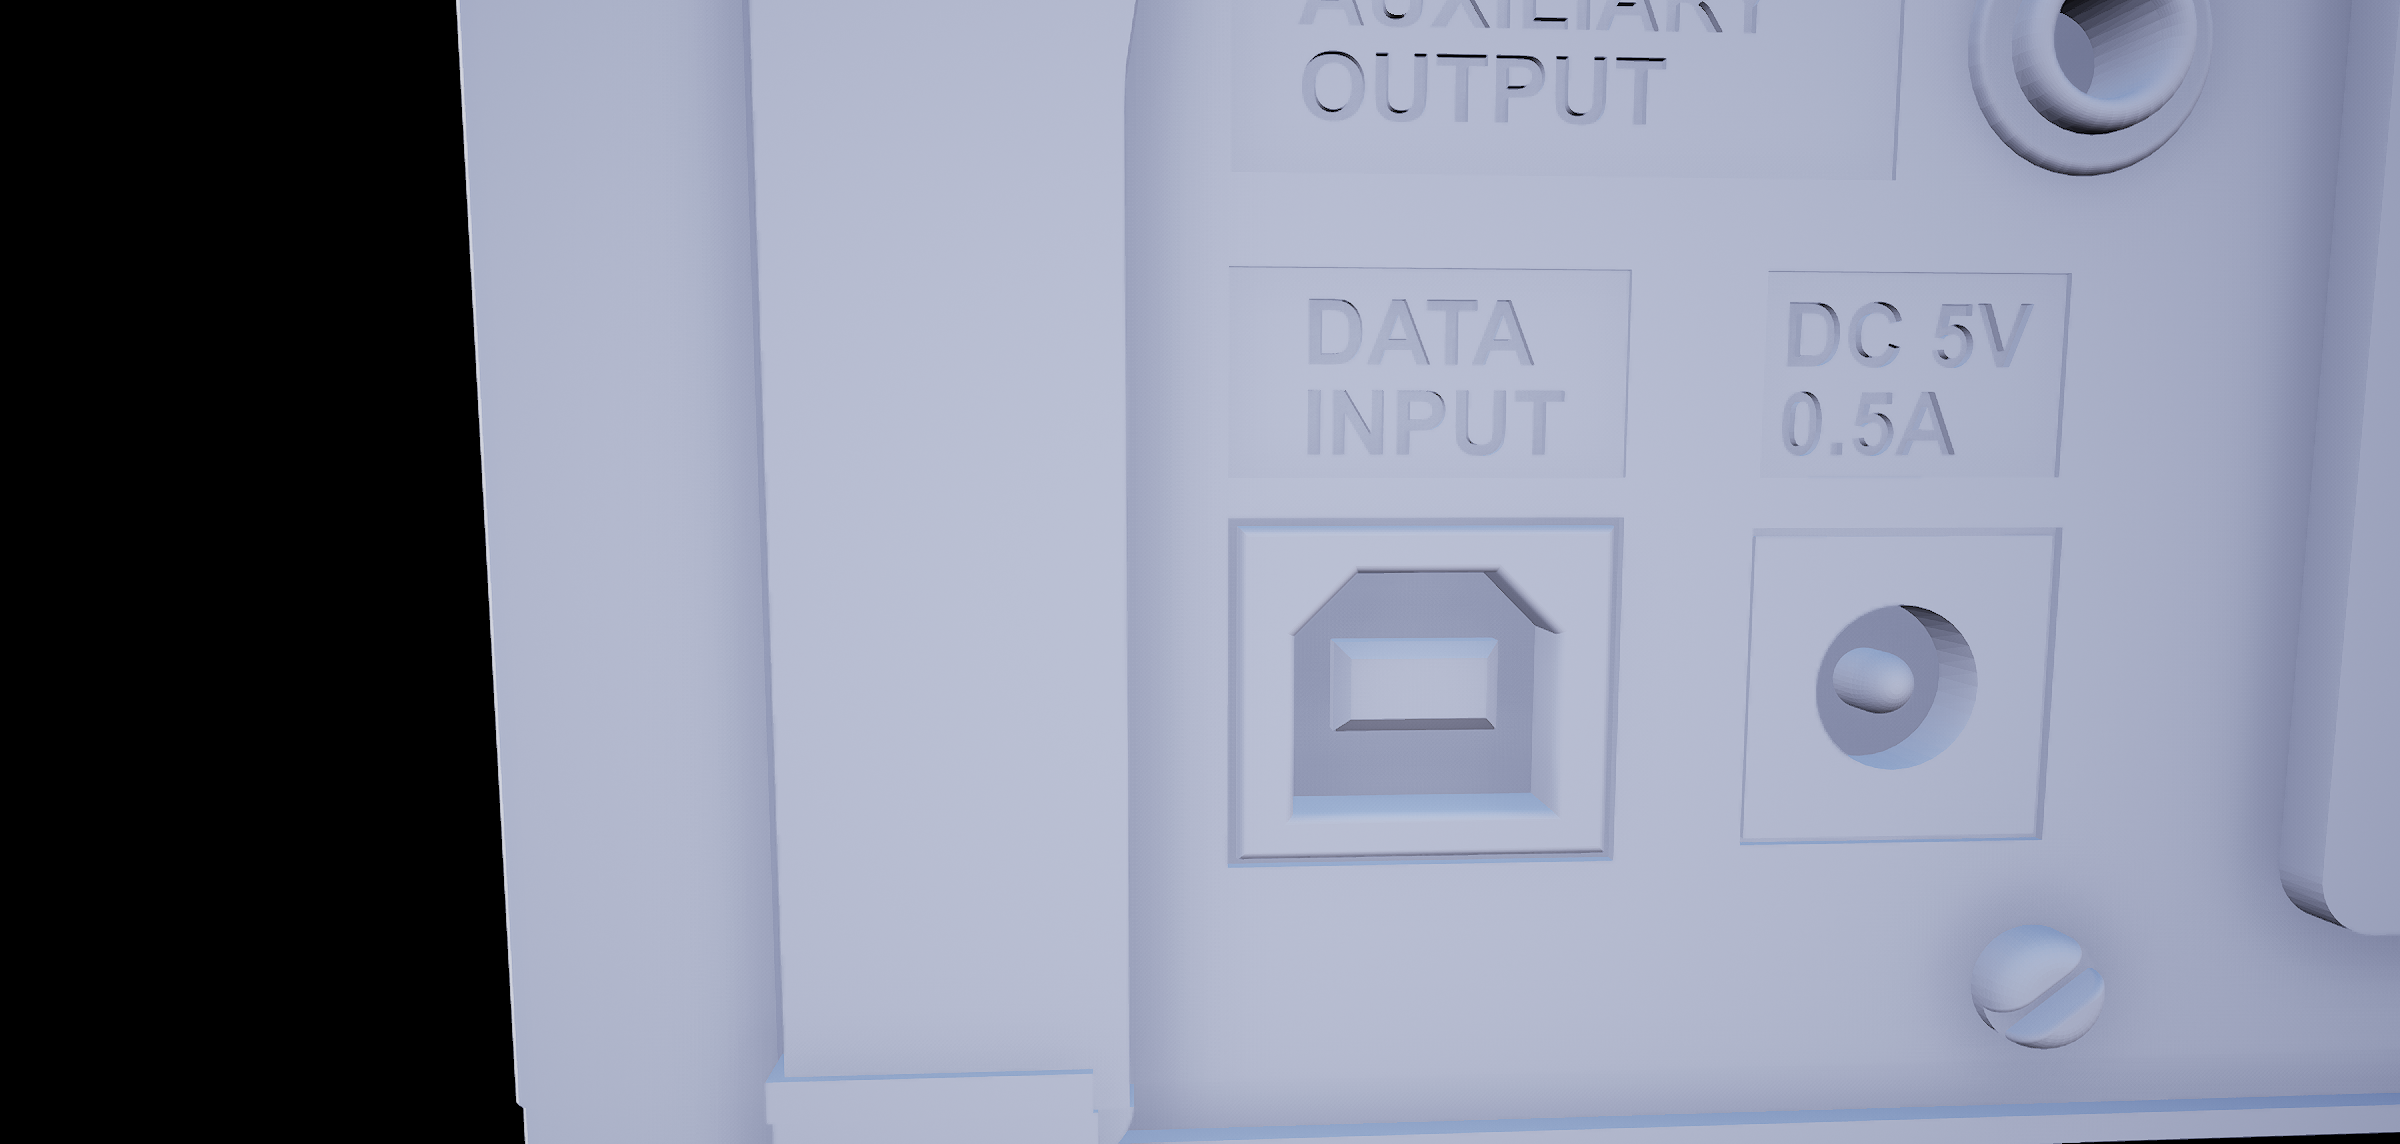aux: (1958, 2, 2238, 168)
dc: (1809, 579, 1996, 790)
usb: (1284, 541, 1580, 832)
